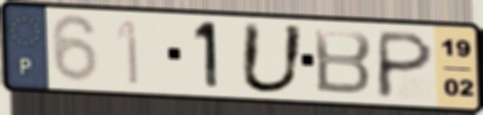1: (188, 18, 222, 93), (114, 17, 141, 88)
6: (48, 12, 106, 88)
B: (311, 26, 375, 98)
P: (372, 28, 437, 101)
U: (236, 19, 309, 96)
